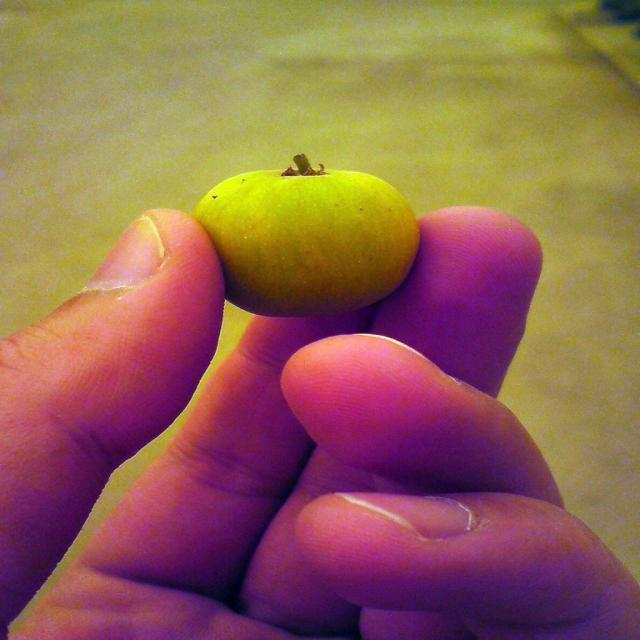Apple pie: (193, 153, 419, 319)
